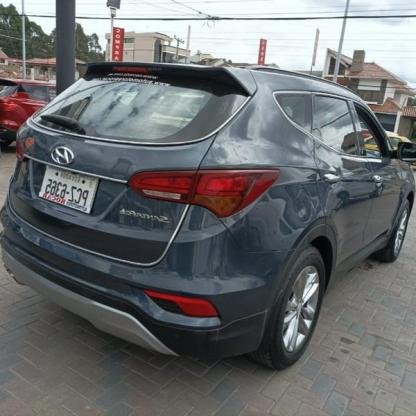Placa: (31, 162, 106, 211)
